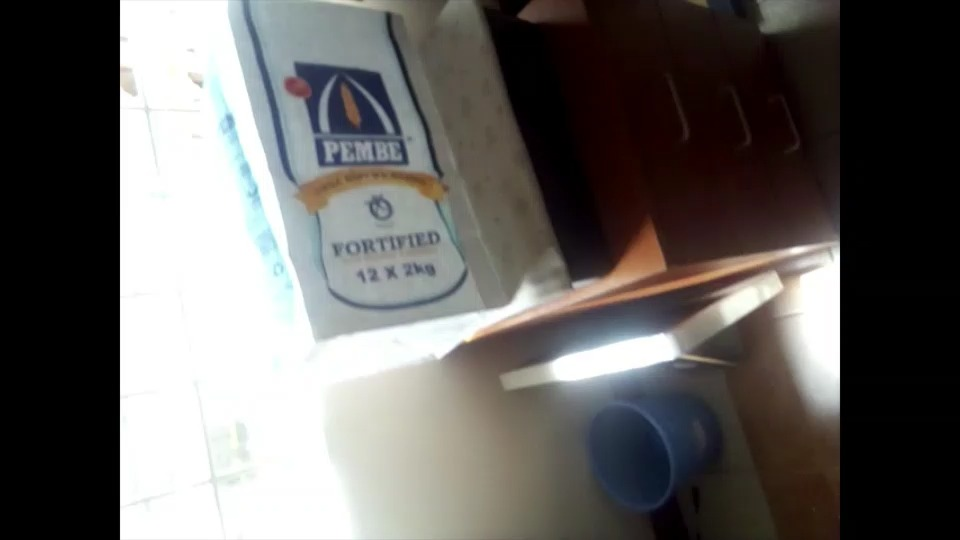wheat_flour_blue_label: (202, 4, 492, 385)
